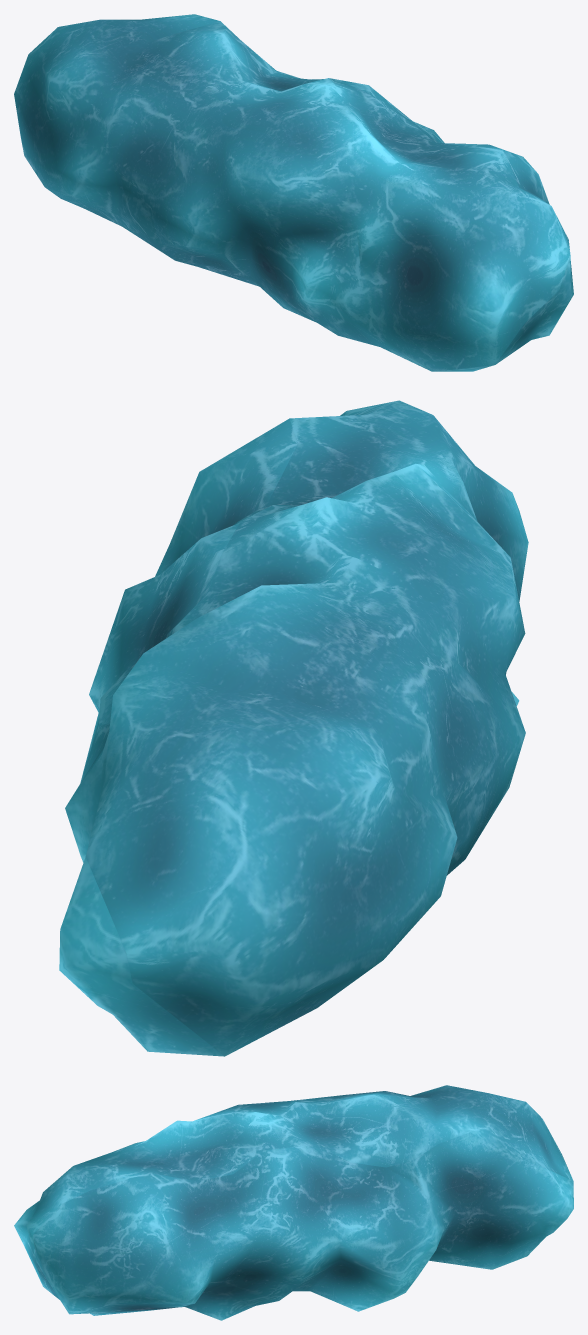
3 views of the same model, one above another, from view 1: azimuth 30°, elevation 25°; view 2: azimuth 150°, elevation 25°; view 3: azimuth 270°, elevation 25° (orthographic). The views are drawn at different scales.
Parts seen in each view (by area): view 1: rock_low; view 2: rock_low; view 3: rock_low.
Boxes of the visible parts, box(x1,y1,x2,y2) form: rock_low: box(14, 14, 573, 371); rock_low: box(59, 400, 528, 1056); rock_low: box(14, 1085, 573, 1320).
Size of the model in its own units: 1.07 by 0.7724 by 2.
